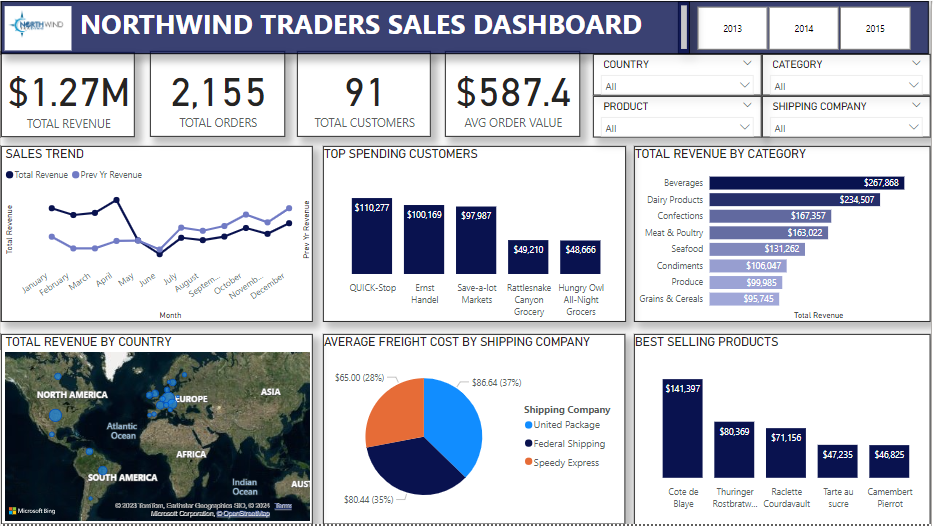

Layout of this report page (visuals, bound fields, positions):
{"tool":"powerbi","page":{"name":"Sales","canvas":[1280,720],"ordinal":0},"visuals":[{"type":"slicer","fields":{"Values":["Calendar.Year"]},"box":[931.3,0,344.6,73.3],"z":0},{"type":"card","fields":{"Values":["order_details.Total Revenue"]},"box":[0,70.6,185,114],"z":1000},{"type":"card","fields":{"Values":["order_details.Total Orders"]},"box":[204.8,69.2,185.4,114.9],"z":2000},{"type":"card","fields":{"Values":["customers.Total Customers"]},"box":[406.8,69.2,185.4,114.9],"z":3000},{"type":"card","fields":{"Values":["order_details.Avg Order Value"]},"box":[611.6,69.2,185.4,114.9],"z":4000},{"type":"lineChart","title":"SALES TREND","fields":{"Category":["Calendar.Month"],"Y":["order_details.Total Revenue"],"Y2":["Calendar.Prev Yr Revenue"]},"box":[0,199.6,429.4,242.2],"z":5000},{"type":"barChart","title":"TOTAL REVENUE BY CATEGORY","fields":{"Category":["categories.categoryName"],"Y":["order_details.Total Revenue"]},"box":[871.8,199.3,408.2,242.2],"z":6000},{"type":"pieChart","title":"AVERAGE FREIGHT COST BY SHIPPING COMPANY","fields":{"Category":["shippers.companyName"],"Y":["Avg(orders.freight)"]},"box":[443.2,458.3,415.7,261.5],"z":7000},{"type":"textbox","box":[0,0,947.9,73.3],"z":8000},{"type":"image","box":[0,0,102.5,73.9],"z":9000},{"type":"columnChart","title":"TOP SPENDING CUSTOMERS","fields":{"Category":["customers.companyName"],"Y":["order_details.Total Revenue"]},"box":[442.8,199.3,416.5,242.2],"z":10000},{"type":"clusteredColumnChart","title":"BEST SELLING PRODUCTS","fields":{"Category":["products.productName"],"Y":["order_details.Total Revenue"]},"box":[871.8,458,408.2,262.9],"z":11000},{"type":"slicer","fields":{"Values":["customers.country"]},"box":[815,73.3,232.5,56.7],"z":12000},{"type":"slicer","fields":{"Values":["products.productName"]},"box":[815,130.1,232.5,56.7],"z":13000},{"type":"slicer","fields":{"Values":["categories.categoryName"]},"box":[1047.5,73.3,232.5,56.7],"z":14000},{"type":"map","title":"TOTAL REVENUE BY COUNTRY","fields":{"Category":["customers.country"],"Size":["order_details.Total Revenue"]},"box":[0,458.3,429.4,261.5],"z":15000},{"type":"slicer","fields":{"Values":["shippers.companyName"]},"box":[1047.5,130.1,232.5,56.7],"z":16000}]}

Visuals, with their boxes in screenshot pixels (x1, y1, x2, y2), scaled from the page's 1280x720 canvas onto the 933x526 screenshot:
slicer - Calendar.Year: left=679, top=0, right=930, bottom=54
card - order_details.Total Revenue: left=0, top=52, right=135, bottom=135
card - order_details.Total Orders: left=149, top=51, right=284, bottom=134
card - customers.Total Customers: left=297, top=51, right=432, bottom=134
card - order_details.Avg Order Value: left=446, top=51, right=581, bottom=134
"SALES TREND" lineChart: left=0, top=146, right=313, bottom=323
"TOTAL REVENUE BY CATEGORY" barChart: left=635, top=146, right=932, bottom=323
"AVERAGE FREIGHT COST BY SHIPPING COMPANY" pieChart: left=323, top=335, right=626, bottom=525
textbox: left=0, top=0, right=691, bottom=54
image: left=0, top=0, right=75, bottom=54
"TOP SPENDING CUSTOMERS" columnChart: left=323, top=146, right=626, bottom=323
"BEST SELLING PRODUCTS" clusteredColumnChart: left=635, top=335, right=932, bottom=525
slicer - customers.country: left=594, top=54, right=764, bottom=95
slicer - products.productName: left=594, top=95, right=764, bottom=136
slicer - categories.categoryName: left=764, top=54, right=932, bottom=95
"TOTAL REVENUE BY COUNTRY" map: left=0, top=335, right=313, bottom=525
slicer - shippers.companyName: left=764, top=95, right=932, bottom=136
